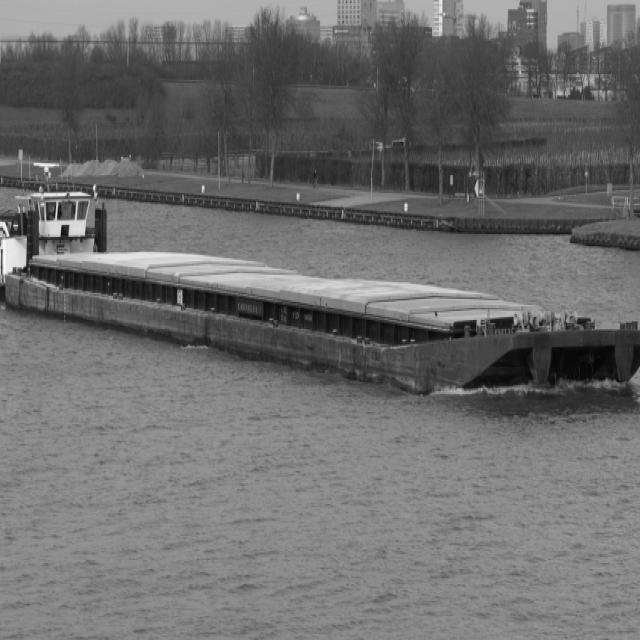tugboat: (1, 155, 114, 316)
